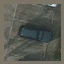car: (19, 25, 51, 44)
